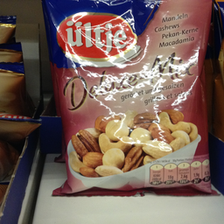nuts: (41, 1, 217, 198)
